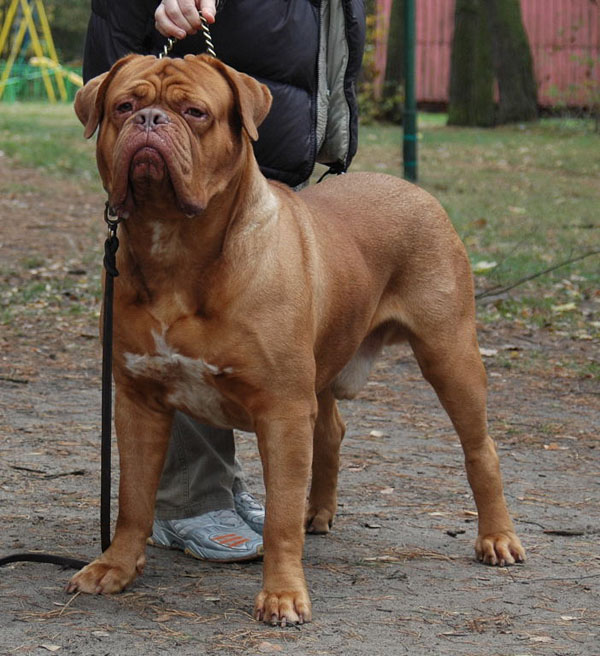dogue_de_bordeaux: (63, 52, 526, 630)
person: (82, 0, 362, 567)
